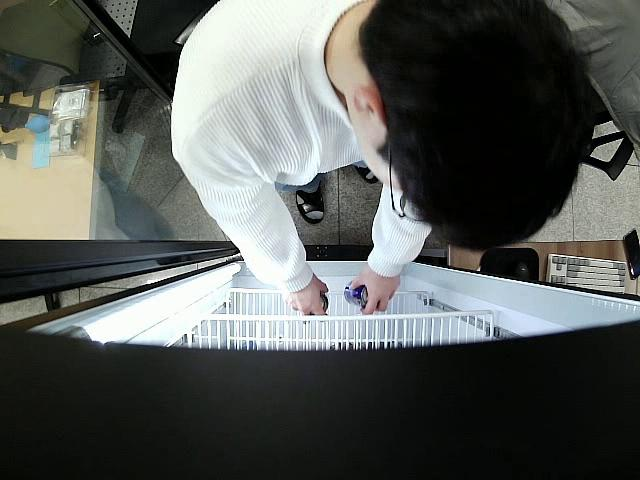00_hand: (349, 265, 400, 312), (283, 272, 329, 317)
14_welchsGrape: (345, 282, 369, 308)
